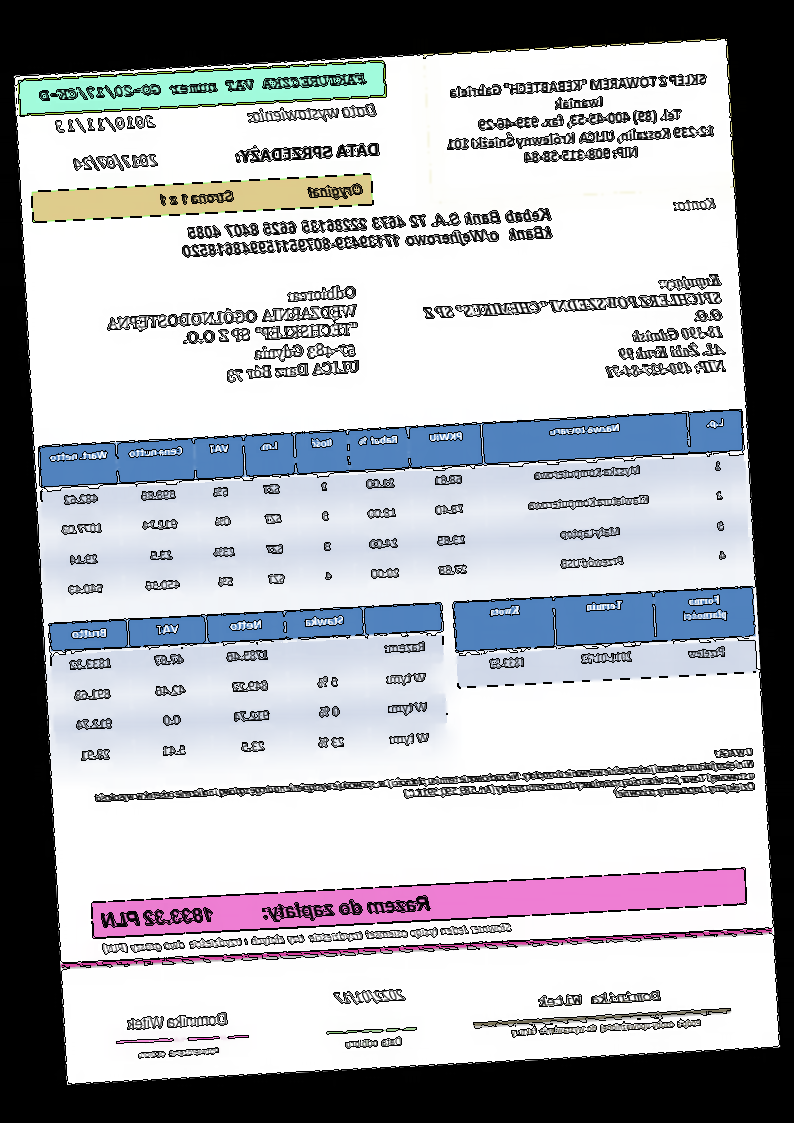Table: (37, 405, 754, 611), (48, 601, 452, 775), (454, 585, 759, 689)
TextBox: (94, 743, 759, 829), (419, 271, 728, 393), (102, 279, 363, 395), (439, 66, 717, 173), (178, 202, 556, 264), (98, 918, 514, 956), (97, 891, 435, 933), (32, 69, 370, 103), (157, 180, 367, 211), (509, 1015, 705, 1040), (233, 137, 382, 166), (246, 98, 378, 126), (534, 987, 665, 1011), (122, 1008, 230, 1033), (54, 110, 156, 135), (73, 149, 161, 175), (327, 982, 407, 1009), (136, 1043, 221, 1064), (668, 192, 720, 217), (344, 1034, 407, 1052)
